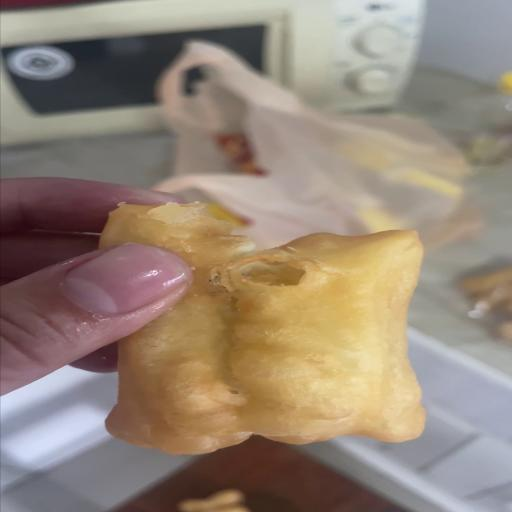street_golden_defect: (100, 203, 425, 454)
